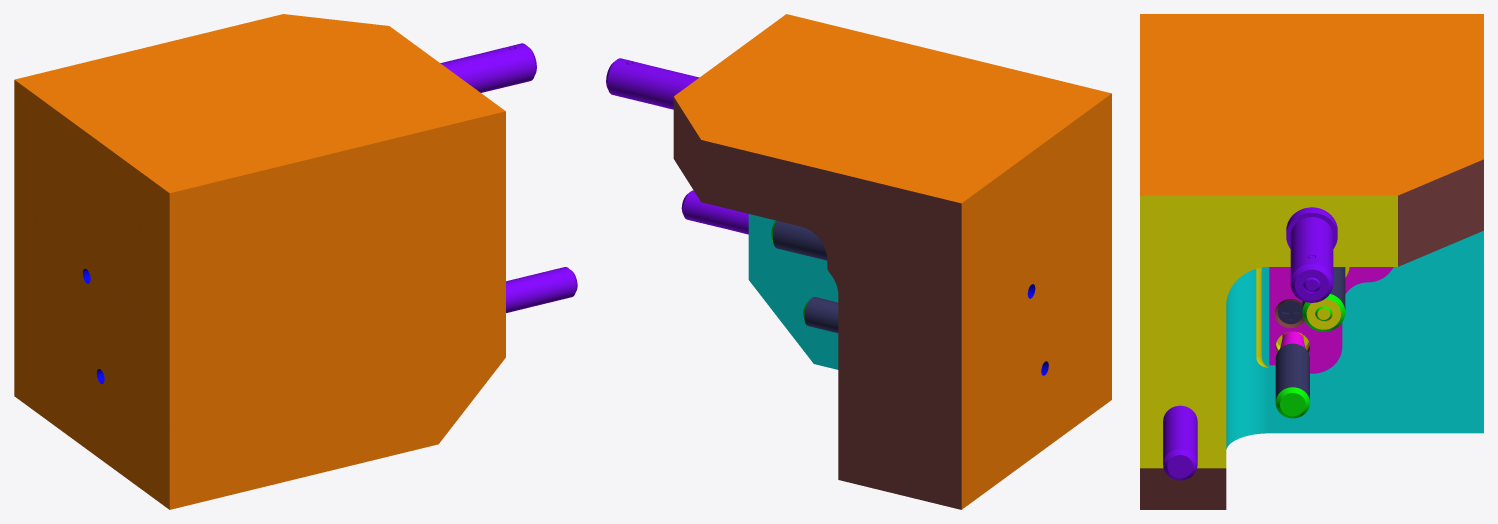
Rendered from TE146027_61425_6-47060_K00260518_KEN.obj.
3 renders of one model, left to right at view 1: azimuth 30°, elevation 25°; view 2: azimuth 150°, elevation 25°; view 3: azimuth 270°, elevation 25°, orthographic. The views are drawn at different scales.
Visible parts, largest first — view 1: Shell_000, Shell_012, Shell_009; view 2: Shell_000, Shell_012, Shell_009, Shell_005, Shell_002; view 3: Shell_000, Shell_001, Shell_012, Shell_002, Shell_009, Shell_005, Shell_010, Shell_007.
Part boxes in pixels (bbox=[...]): Shell_000: bbox=[14, 14, 505, 509]; Shell_012: bbox=[440, 43, 536, 92]; Shell_009: bbox=[506, 267, 577, 312]; Shell_000: bbox=[673, 14, 1111, 509]; Shell_012: bbox=[606, 58, 699, 109]; Shell_009: bbox=[681, 190, 748, 234]; Shell_005: bbox=[771, 220, 827, 260]; Shell_002: bbox=[803, 297, 838, 332]; Shell_000: bbox=[1140, 14, 1483, 509]; Shell_001: bbox=[1269, 267, 1393, 373]; Shell_012: bbox=[1290, 217, 1333, 302]; Shell_002: bbox=[1275, 331, 1309, 418]; Shell_009: bbox=[1163, 405, 1197, 480]; Shell_005: bbox=[1302, 267, 1345, 331]; Shell_010: bbox=[1286, 207, 1337, 248]; Shell_007: bbox=[1278, 300, 1302, 324].
Size of the model in its own units: 130 by 90 by 80.
